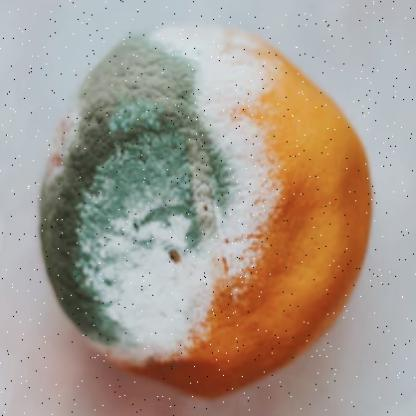rotten: (39, 19, 373, 400)
